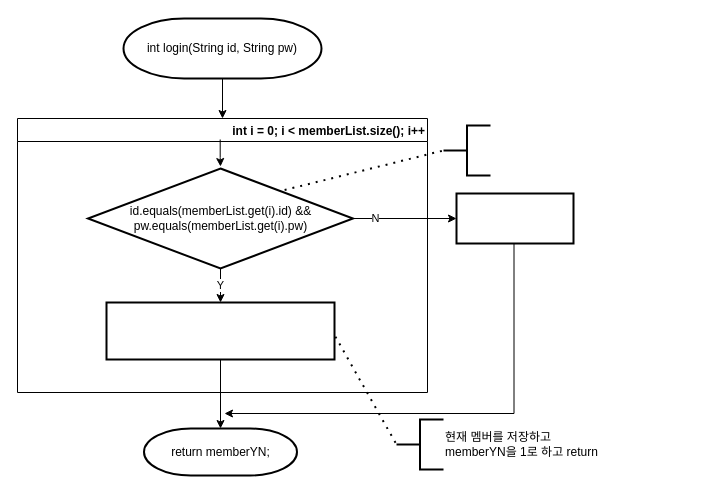
Some shapes in this 709 by 493 pixel diagram are drawn without their labels. Each missing label, with the box of its shape:
member_now = memberList.get(i); memberYN = 1;: (105, 301, 335, 360)
memberYN=0;: (455, 192, 574, 244)
입력한 ID와 PW가 저장된 멤버리스트의 ID와 PW와 같다면: (442, 124, 491, 176)
